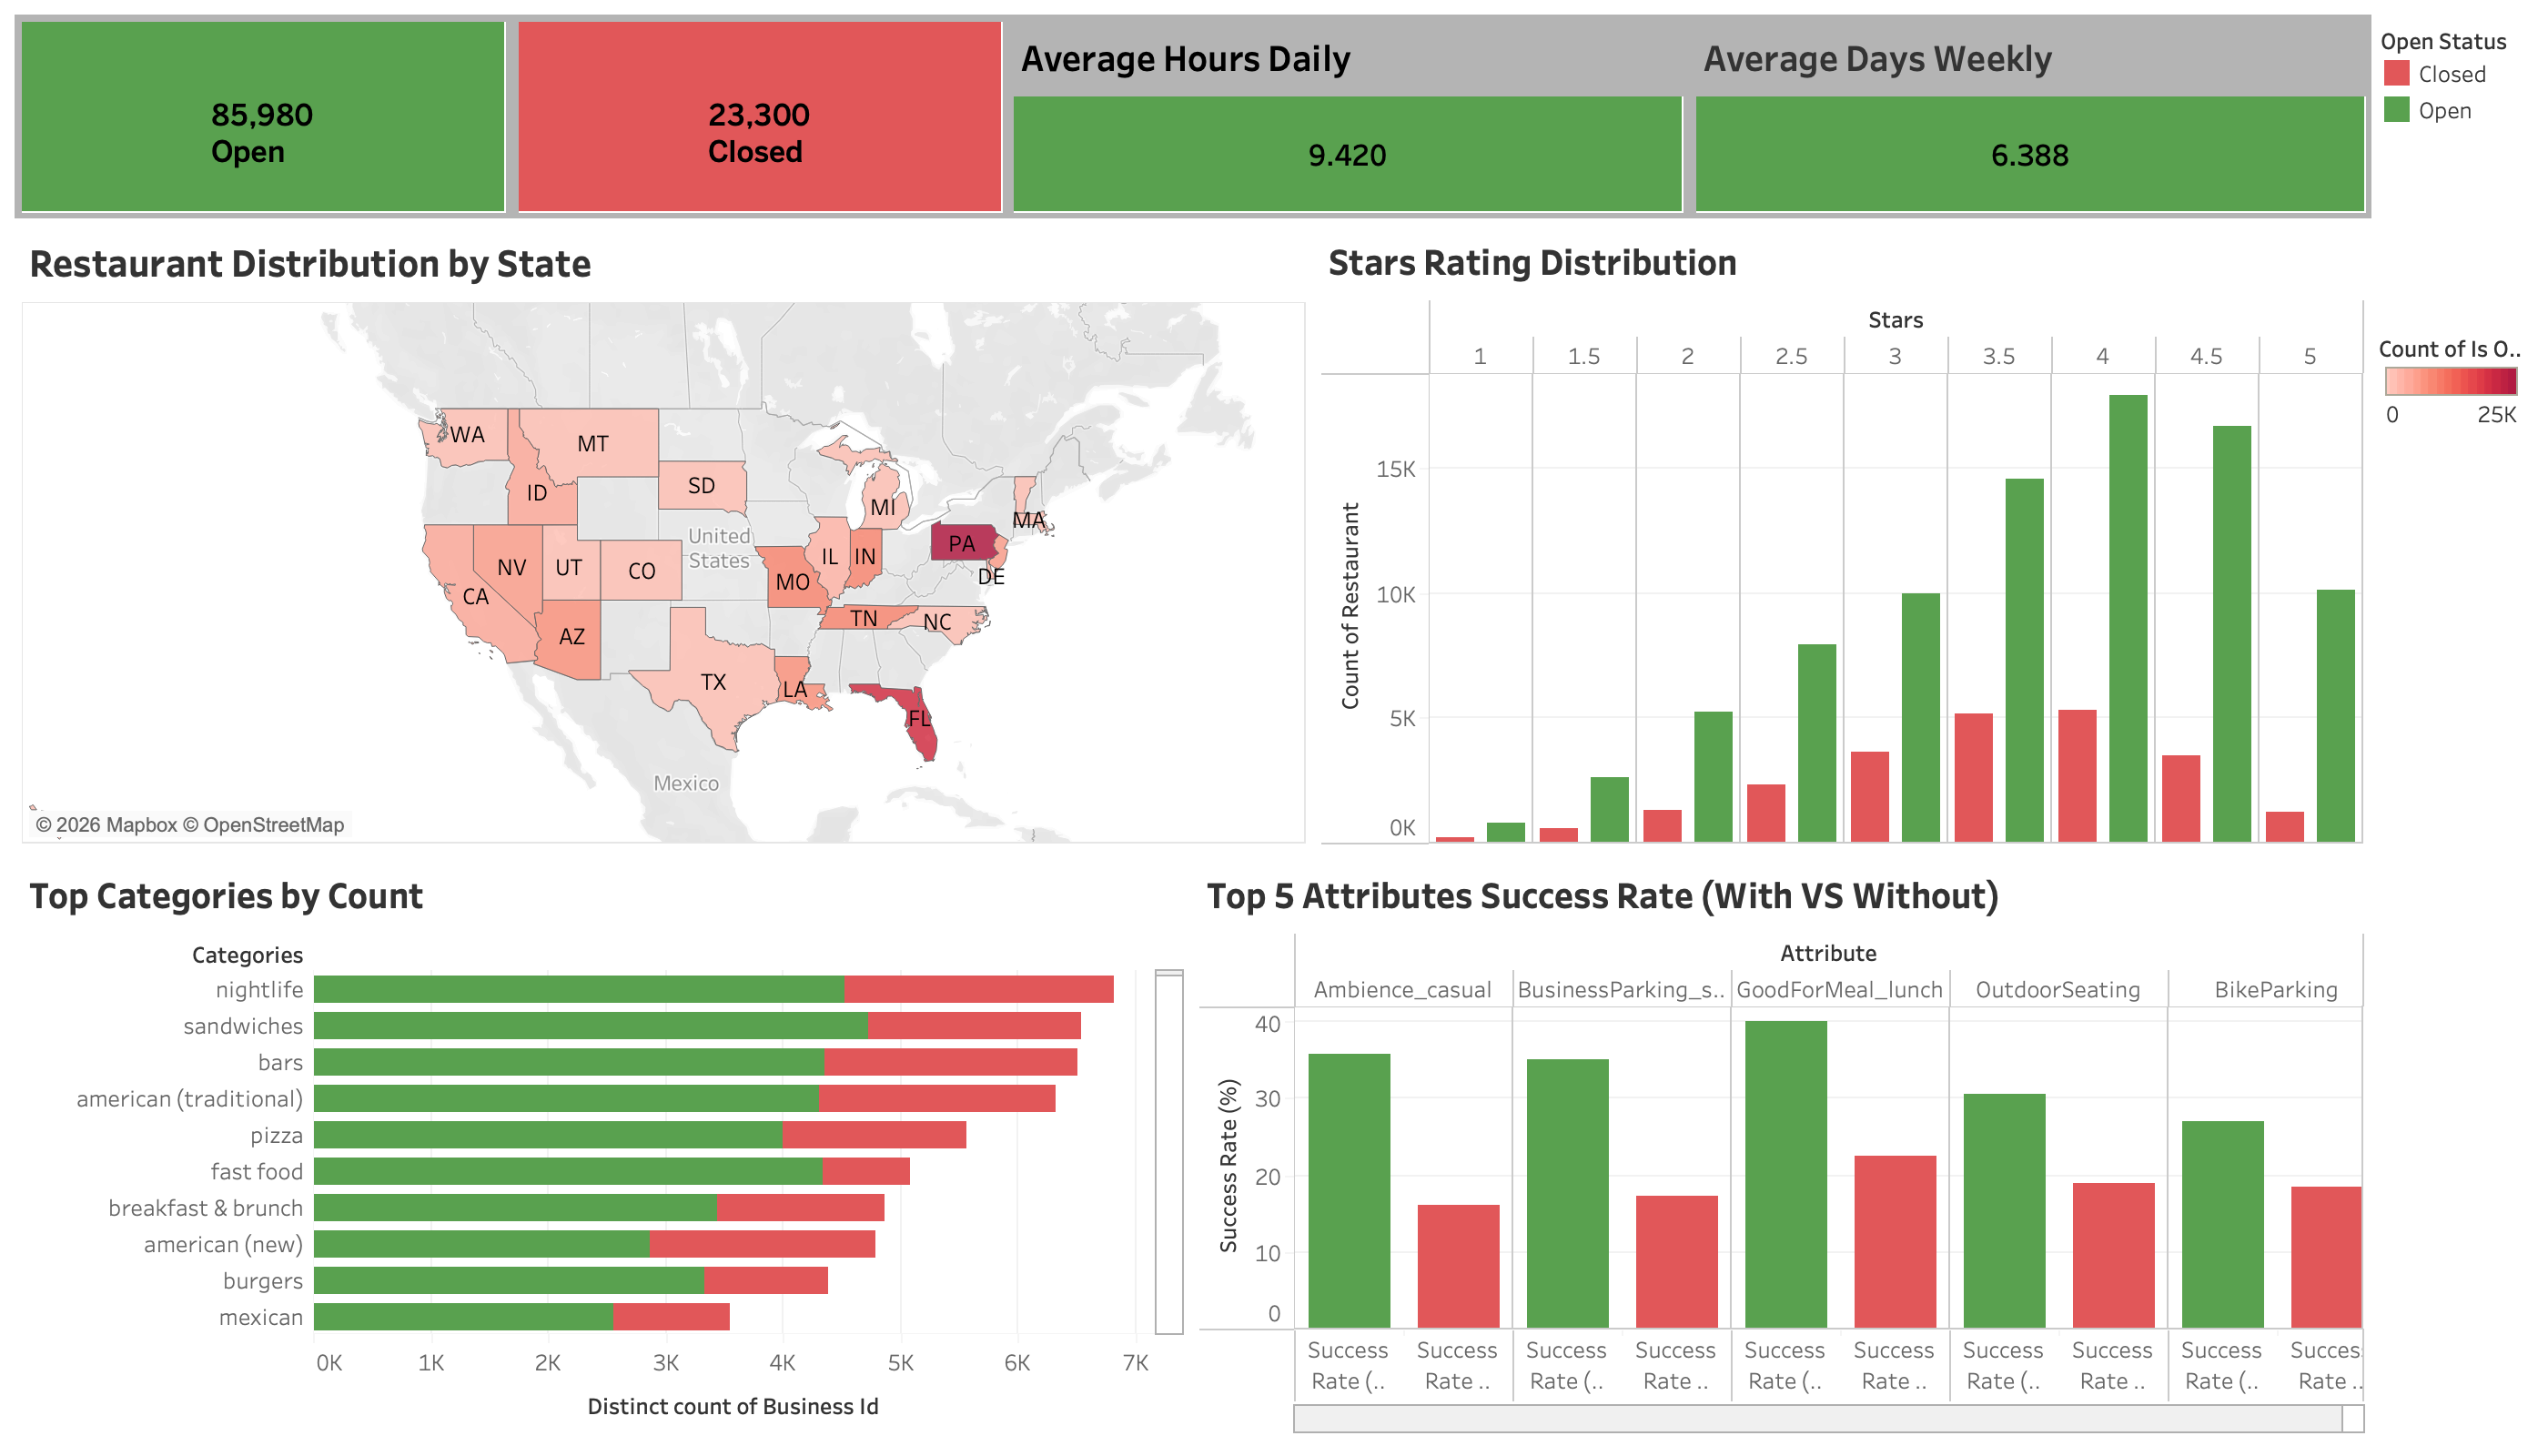

Layout of this report page (visuals, bound fields, positions):
{"tool":"tableau","page":{"name":"Dashboard 1","canvas":[1400,800],"ordinal":0},"visuals":[{"type":"worksheet","title":"Sheet 4","mark":"Square","box":[8,8,272.6,112]},{"type":"worksheet","title":"Sheet 6","mark":"Square","box":[280.5,8,272.6,112]},{"type":"worksheet","title":"Sheet 8","mark":"Square","box":[553.1,8,374.9,112]},{"type":"worksheet","title":"Sheet 11","mark":"Square","box":[928.1,8,374.9,112]},{"type":"legend","title":"Sheet 2","param":"[federated.1nr54xd0m08pmq1afq3k21hjclyv].[none:Calculation_3290474434514945:nk]","box":[1303,8,89,167]},{"type":"worksheet","title":"Sheet 1","mark":"Multipolygon","box":[8,120,714,348]},{"type":"worksheet","title":"Sheet 2","mark":"Bar","rows":["is_open"],"cols":["stars","Calculation_3290474434514945"],"box":[722,120,581,348]},{"type":"legend","title":"Sheet 1","param":"[federated.1nr54xd0m08pmq1afq3k21hjclyv].[cnt:Is Open (copy)_3290474434093056:qk","box":[1303,175,89,65]},{"type":"worksheet","title":"Sheet 3","mark":"Automatic","rows":["categories Split"],"cols":["business_id"],"box":[8,468,647.4,324]},{"type":"worksheet","title":"Sheet 7","mark":"Bar","cols":["attribute"],"box":[655.4,468,647.6,324]}]}

Visuals, with their boxes in screenshot pixels (x1, y1, x2, y2), scaled from the page's 1400x800 canvas onto the 2548x1456 screenshot:
"Sheet 4" worksheet (Square marks): {"x1": 15, "y1": 15, "x2": 511, "y2": 218}
"Sheet 6" worksheet (Square marks): {"x1": 511, "y1": 15, "x2": 1006, "y2": 218}
"Sheet 8" worksheet (Square marks): {"x1": 1006, "y1": 15, "x2": 1689, "y2": 218}
"Sheet 11" worksheet (Square marks): {"x1": 1689, "y1": 15, "x2": 2371, "y2": 218}
"Sheet 2" legend: {"x1": 2371, "y1": 15, "x2": 2533, "y2": 318}
"Sheet 1" worksheet (Multipolygon marks): {"x1": 15, "y1": 218, "x2": 1314, "y2": 852}
"Sheet 2" worksheet (Bar marks): {"x1": 1314, "y1": 218, "x2": 2371, "y2": 852}
"Sheet 1" legend: {"x1": 2371, "y1": 318, "x2": 2533, "y2": 437}
"Sheet 3" worksheet: {"x1": 15, "y1": 852, "x2": 1193, "y2": 1441}
"Sheet 7" worksheet (Bar marks): {"x1": 1193, "y1": 852, "x2": 2371, "y2": 1441}
